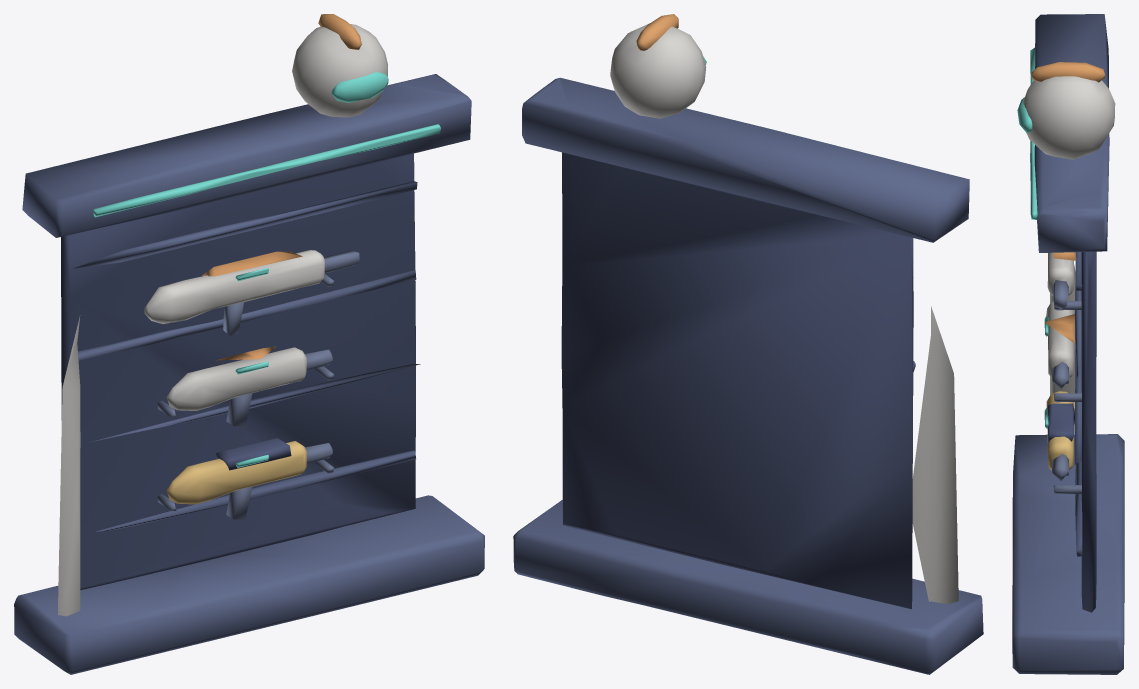
Rendered from rack.glb.
3 renders of one model, left to right at view 1: azimuth 30°, elevation 25°; view 2: azimuth 150°, elevation 25°; view 3: azimuth 270°, elevation 25°, orthographic.
Visible parts, largest first — view 1: rack, rack_glow; view 2: rack; view 3: rack, rack_glow.
Part boxes in pixels (bbox=[...]): rack: bbox=[14, 14, 484, 674]; rack_glow: bbox=[93, 72, 441, 467]; rack: bbox=[513, 14, 983, 674]; rack: bbox=[1012, 14, 1124, 674]; rack_glow: bbox=[1017, 47, 1048, 428].
Bounding box in the file's own units: 2.56 × 3.27 × 0.5974.
